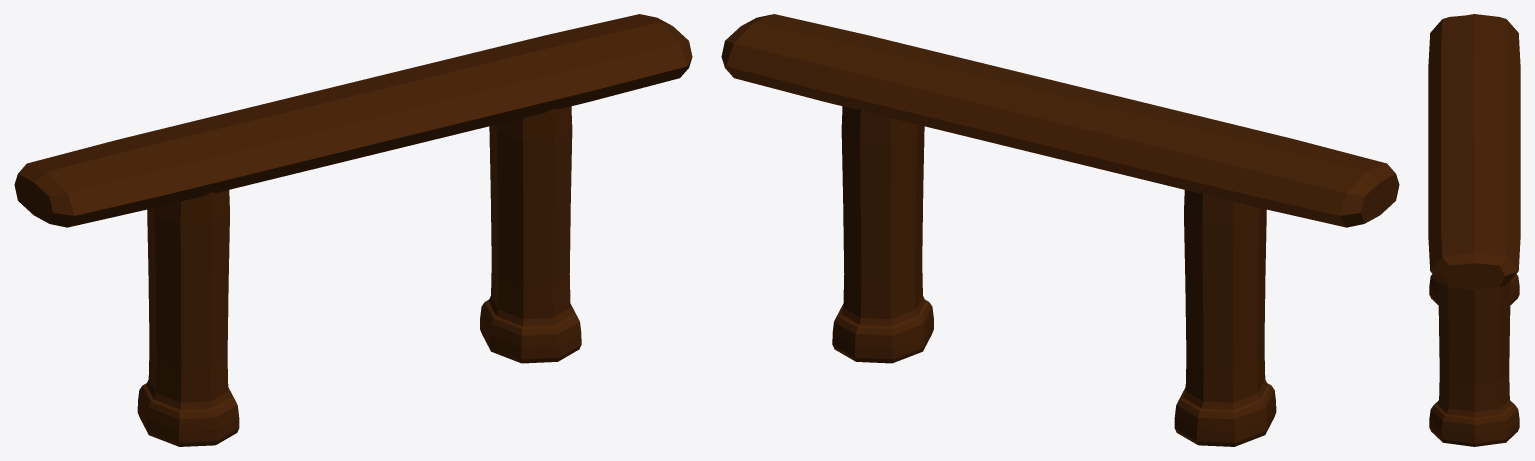
The model's file is Railing.fbx.
3 views of the same model, side by side, from view 1: azimuth 30°, elevation 25°; view 2: azimuth 150°, elevation 25°; view 3: azimuth 270°, elevation 25° (orthographic). The views are drawn at different scales.
Parts seen in each view (by area): view 1: Cube.017; view 2: Cube.017; view 3: Cube.017.
Part boxes in pixels (x1,y1,x2,y2): Cube.017: (14, 14, 692, 446); Cube.017: (721, 14, 1399, 446); Cube.017: (1428, 14, 1520, 446).
Size of the model in its own units: 239 by 104 by 37.65.
